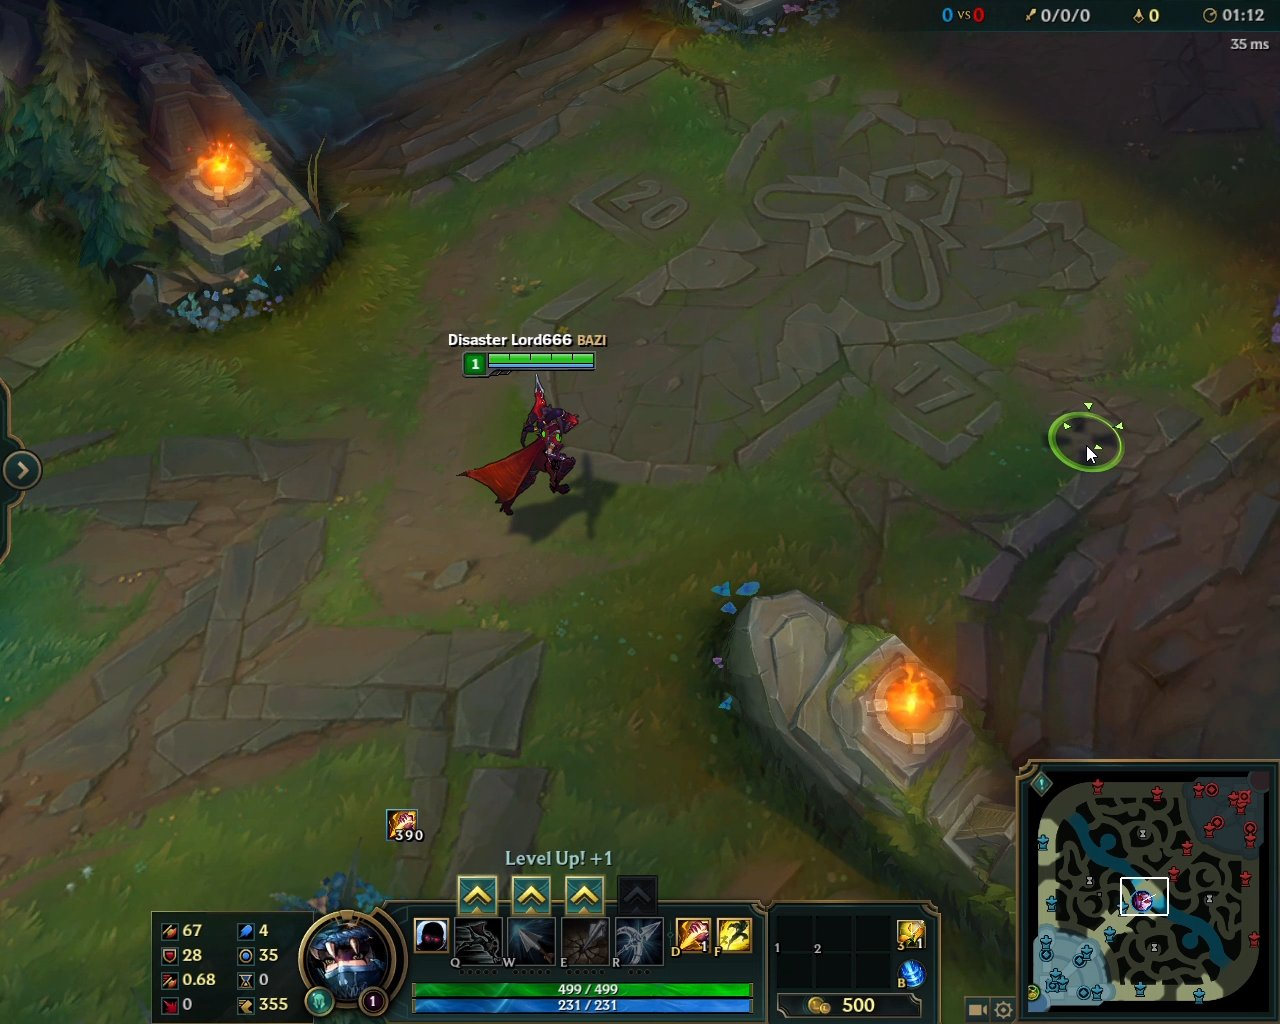Vayne: (447, 375, 589, 523)
